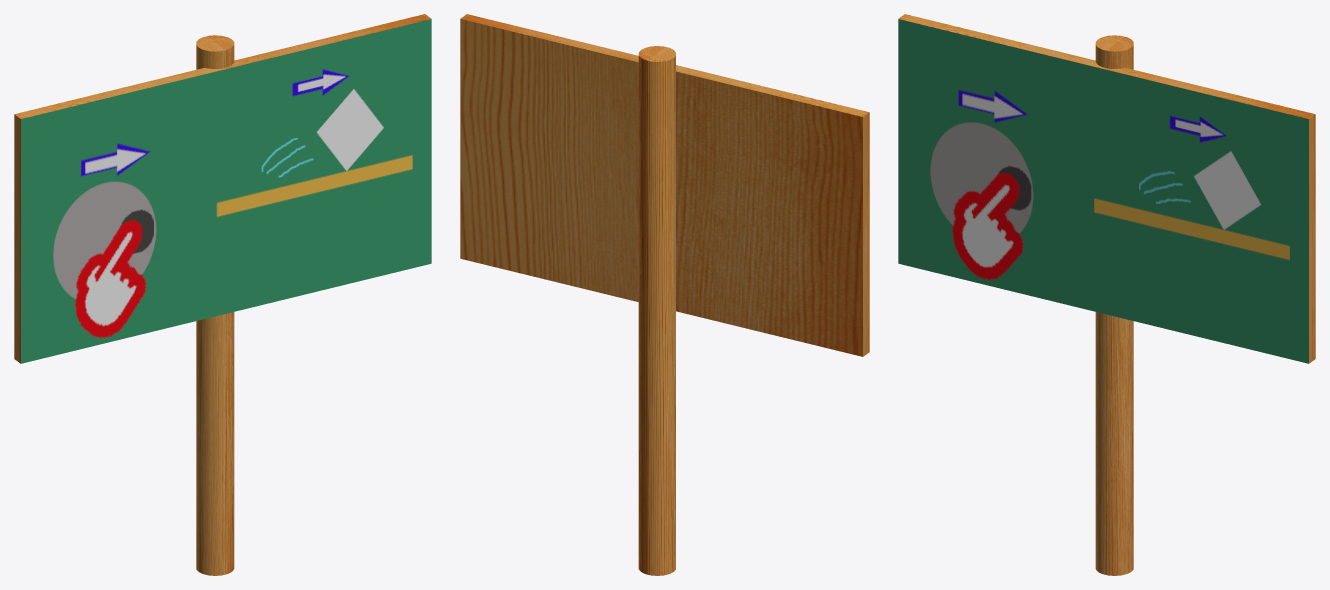
The model's file is TutoSinBord_walk.FBX.
The picture shows the model from 3 angles, left to right: view 1: azimuth 30°, elevation 25°; view 2: azimuth 150°, elevation 25°; view 3: azimuth 330°, elevation 25°; orthographic projection. The views are drawn at different scales.
Parts seen in each view (by area): view 1: Box001, Cylinder001; view 2: Box001, Cylinder001; view 3: Box001, Cylinder001.
Part boxes in pixels (left/top/right/bottom): Box001: left=14, top=14, right=431, bottom=363; Cylinder001: left=196, top=35, right=234, bottom=575; Box001: left=460, top=14, right=869, bottom=356; Cylinder001: left=638, top=46, right=675, bottom=575; Box001: left=898, top=14, right=1315, bottom=363; Cylinder001: left=1095, top=35, right=1133, bottom=575.
Bounding box in the file's own units: 480 × 586 × 41.67.
2 materials, 2 textured.
